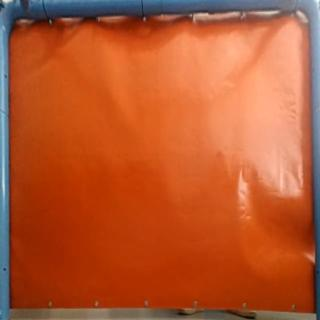Hit-hRxx: (213, 146, 231, 162)
